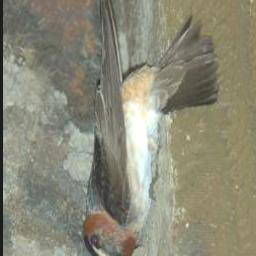Swallow: (81, 0, 220, 256)
